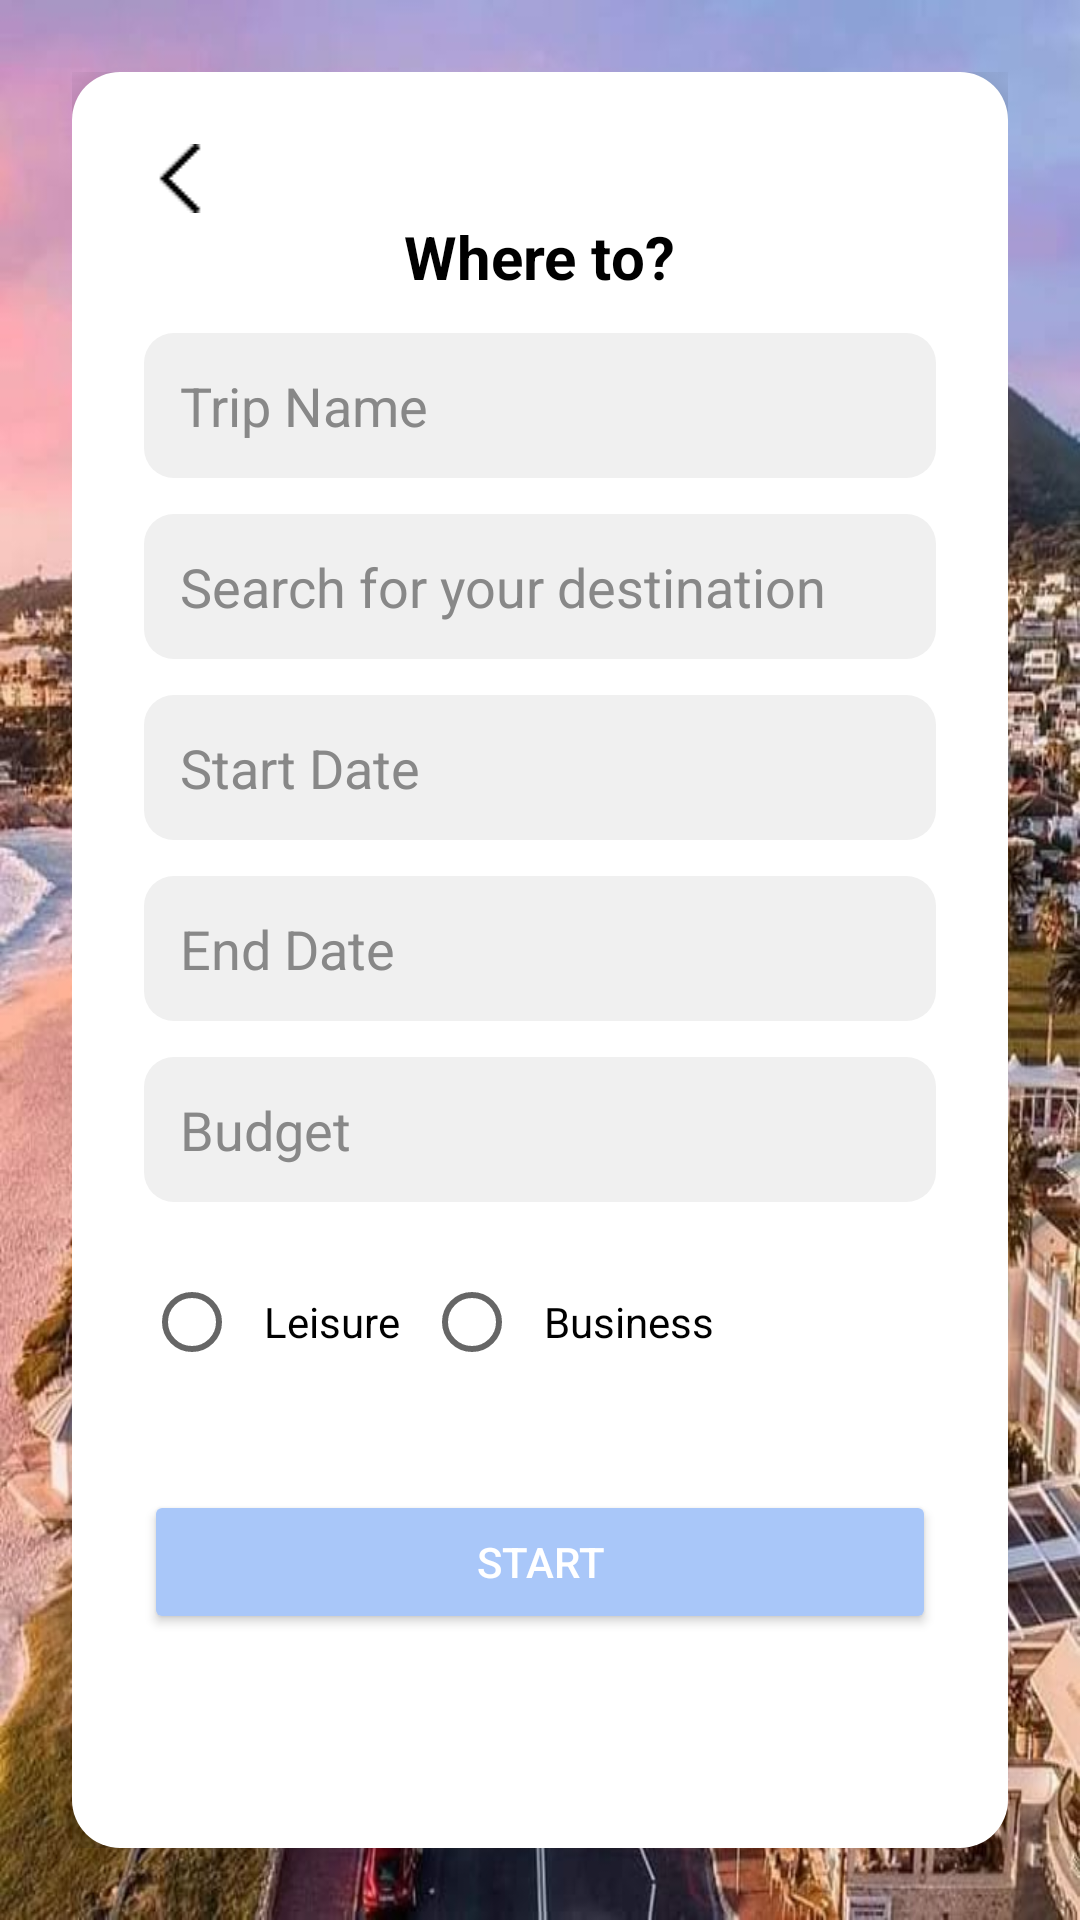

Screen size 1080 x 1920. Icon name, then its box in pixels as (x1, y1, x2, y2):
Back: (159, 144, 201, 213)
